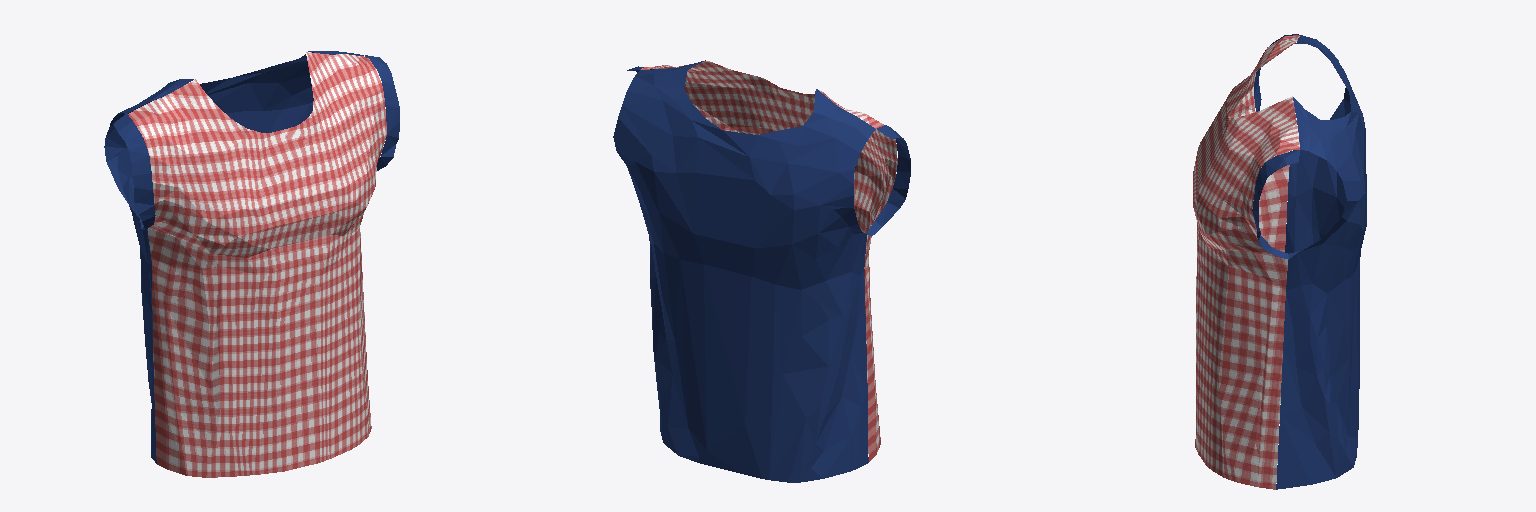
The picture shows the model from 3 angles: view 1: azimuth 30°, elevation 25°; view 2: azimuth 150°, elevation 25°; view 3: azimuth 270°, elevation 25°; orthographic projection.
Parts seen in each view (by area): view 1: T_shirt.005; view 2: T_shirt.005; view 3: T_shirt.005.
Part boxes in pixels (x1,y1,x2,y2): T_shirt.005: (104,51,399,477); T_shirt.005: (613,60,910,482); T_shirt.005: (1193,34,1366,489).
Bounding box in the file's own units: 0.2935 × 0.3892 × 0.1639.
2 materials, 1 textured.